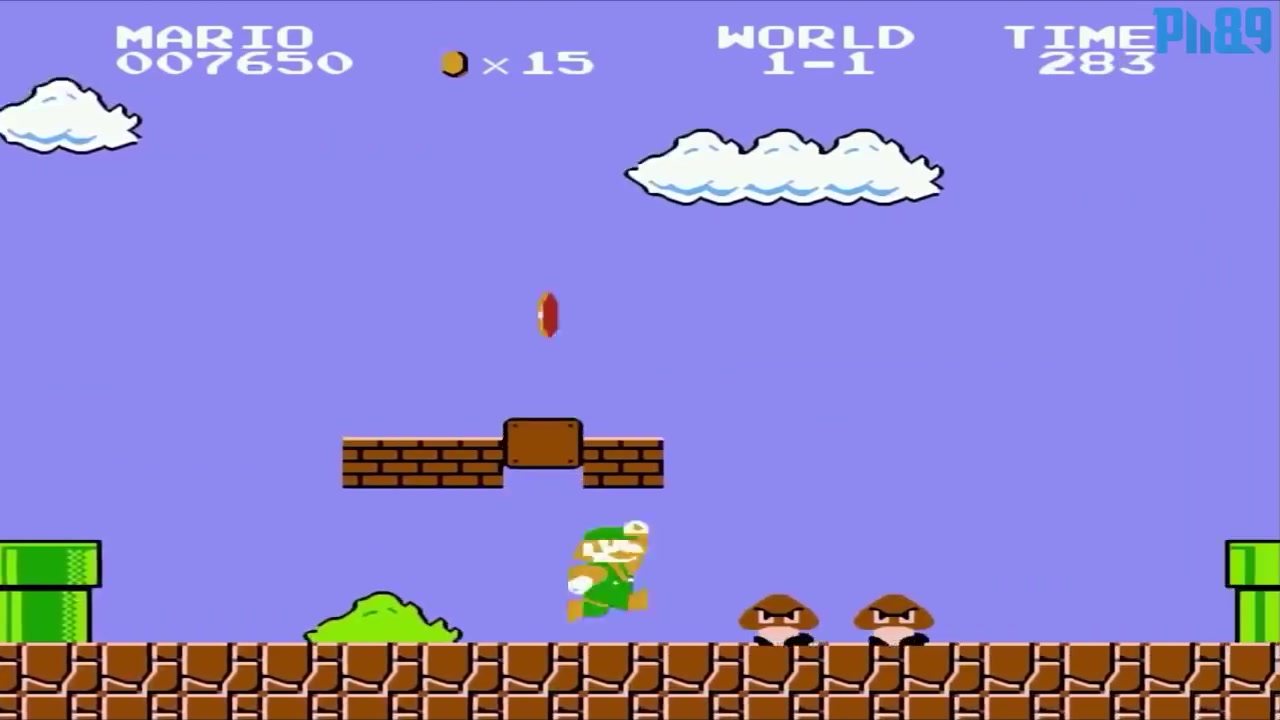mario: (562, 515, 656, 624)
